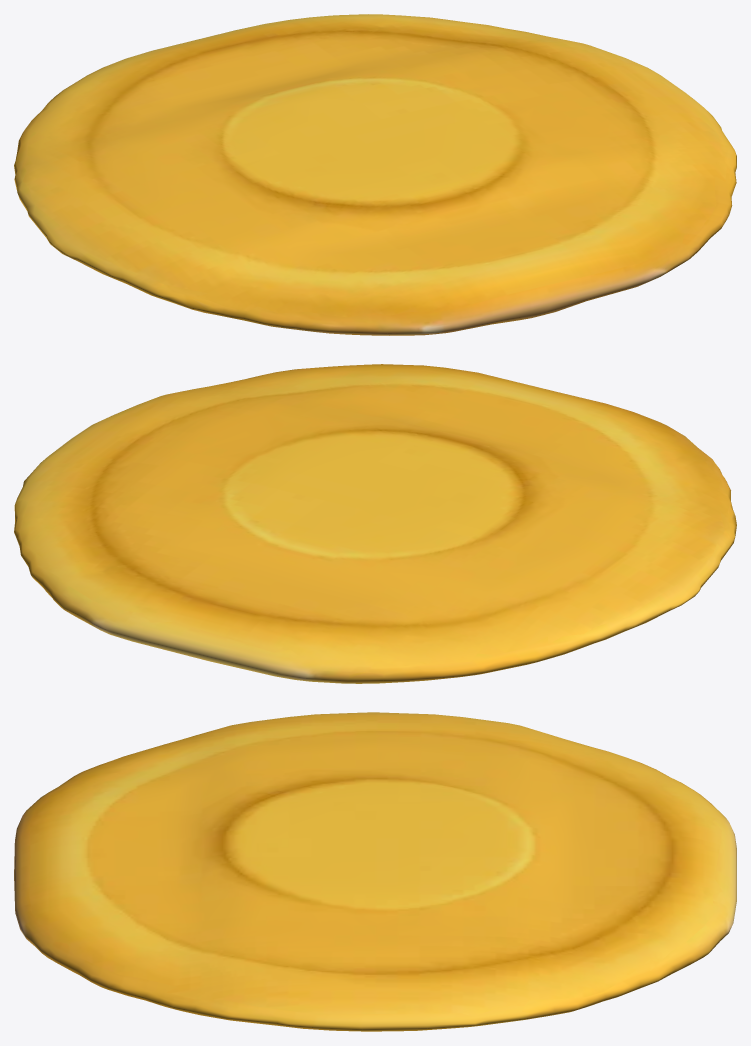
Rendered from collector.glb.
3 views of the same model, one above another, from view 1: azimuth 30°, elevation 25°; view 2: azimuth 150°, elevation 25°; view 3: azimuth 270°, elevation 25° (orthographic). The views are drawn at different scales.
Parts seen in each view (by area): view 1: prop; view 2: prop; view 3: prop.
Boxes of the visible parts, x1=… form: prop: x1=14, y1=14, x2=736, y2=335; prop: x1=14, y1=364, x2=736, y2=683; prop: x1=14, y1=712, x2=736, y2=1031.
Size of the model in its own units: 2 by 0.18 by 1.95.
1 material, 1 textured.
